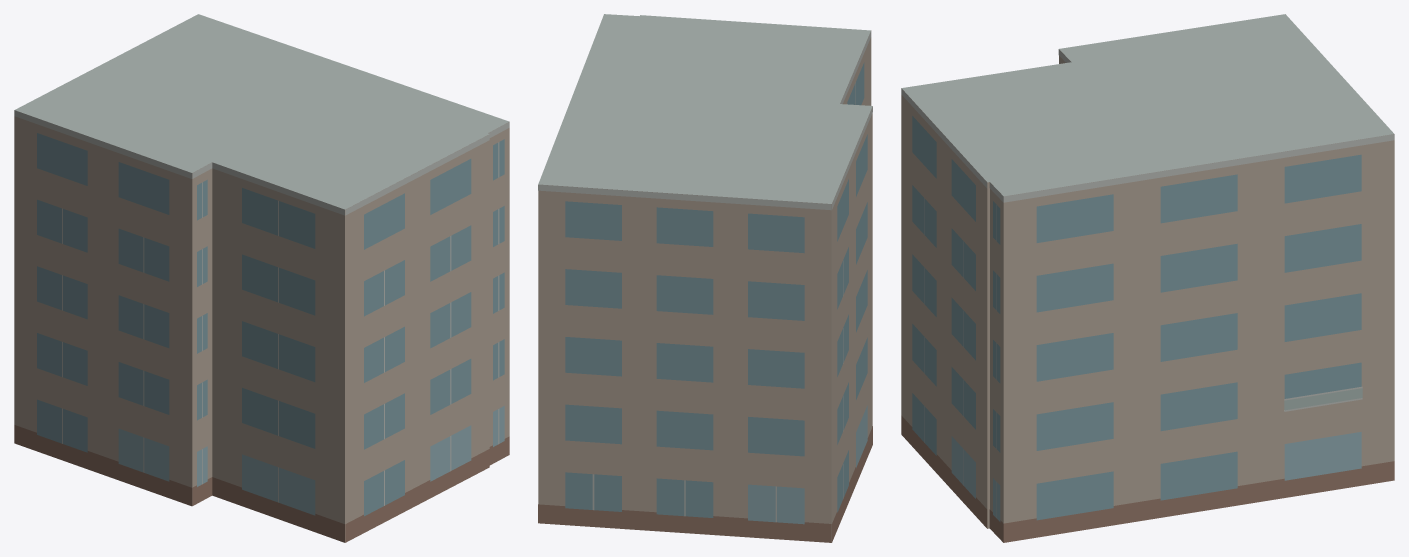
Rendered from survey-upis-32663412.glb.
3 views of the same model, side by side, from view 1: azimuth 30°, elevation 25°; view 2: azimuth 150°, elevation 25°; view 3: azimuth 270°, elevation 25° (orthographic). The views are drawn at different scales.
Parts seen in each view (by area): view 1: survey-upis-32663412.tmp; view 2: survey-upis-32663412.tmp; view 3: survey-upis-32663412.tmp.
Part boxes in pixels (x1,y1,x2,y2): survey-upis-32663412.tmp: [14, 14, 509, 542]; survey-upis-32663412.tmp: [538, 14, 872, 542]; survey-upis-32663412.tmp: [901, 14, 1394, 542].
Size of the model in its own units: 15.14 by 13.4 by 17.29.
